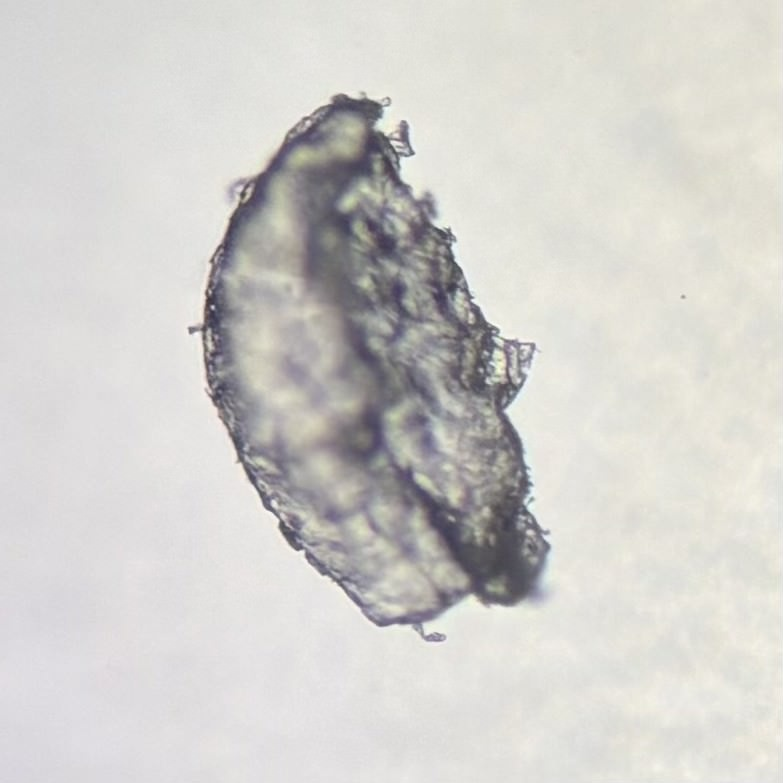microplastic: (186, 89, 560, 647)
